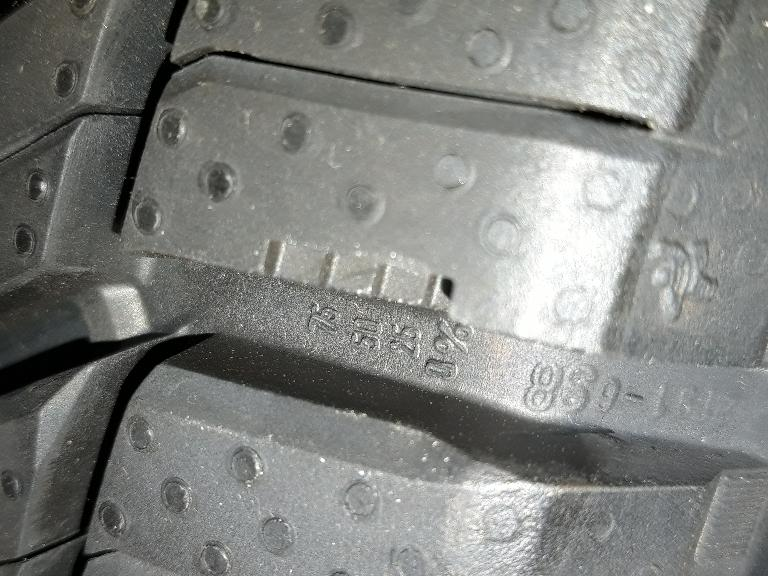temoin:100: (236, 237, 460, 326)
